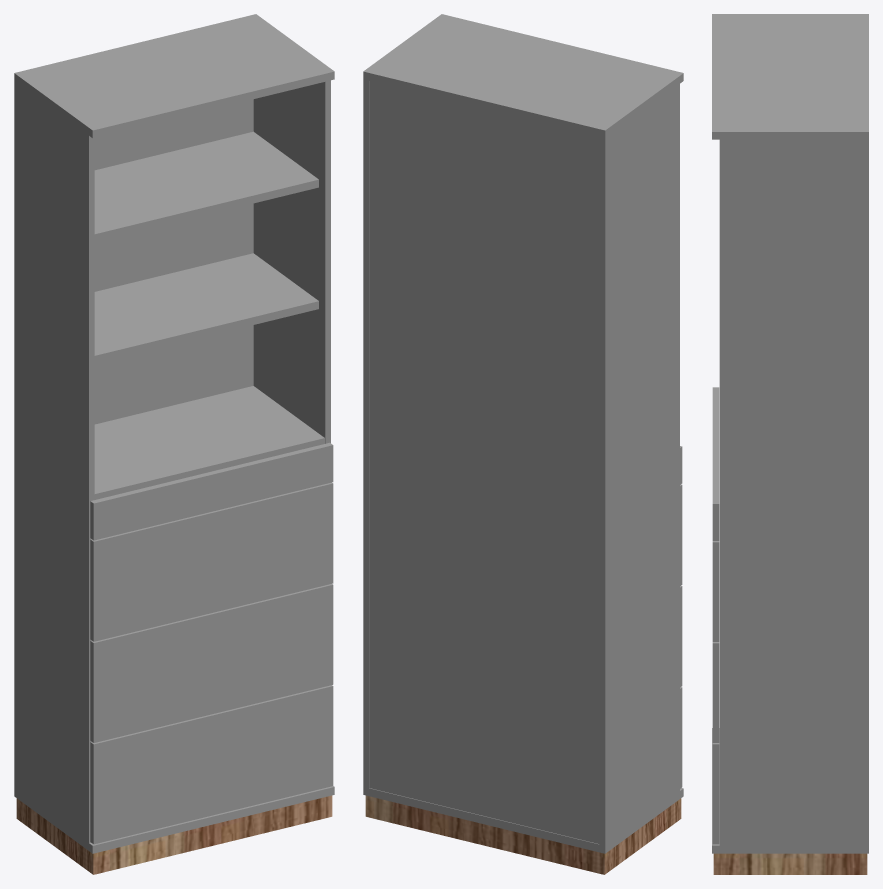
Rendered from baseline_6OH_+1OH_45x80_shelf+drawers_fin2.fbx.
The picture shows the model from 3 angles, left to right: view 1: azimuth 30°, elevation 25°; view 2: azimuth 150°, elevation 25°; view 3: azimuth 270°, elevation 25°; orthographic projection.
Visible parts, largest first — view 1: body_mesh1, front_dol_mesh, podstawa_mesh; view 2: body_mesh1, podstawa_mesh, front_dol_mesh; view 3: body_mesh1, front_dol_mesh, podstawa_mesh.
Part boxes in pixels (x1,y1,x2,y2): body_mesh1: [14, 14, 334, 853]; front_dol_mesh: [90, 442, 333, 844]; podstawa_mesh: [16, 795, 332, 874]; body_mesh1: [363, 14, 683, 853]; podstawa_mesh: [365, 795, 681, 874]; front_dol_mesh: [680, 446, 682, 788]; body_mesh1: [712, 14, 868, 853]; front_dol_mesh: [712, 387, 719, 844]; podstawa_mesh: [713, 853, 867, 874].
Size of the model in its own units: 80 by 236 by 45.
